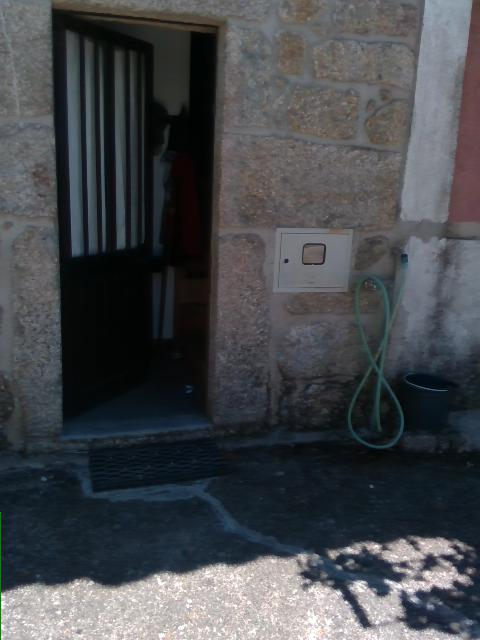semi_door: (49, 3, 219, 440)
